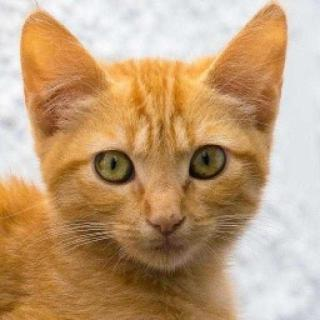cat: (14, 7, 298, 278)
nose: (146, 192, 186, 238)
